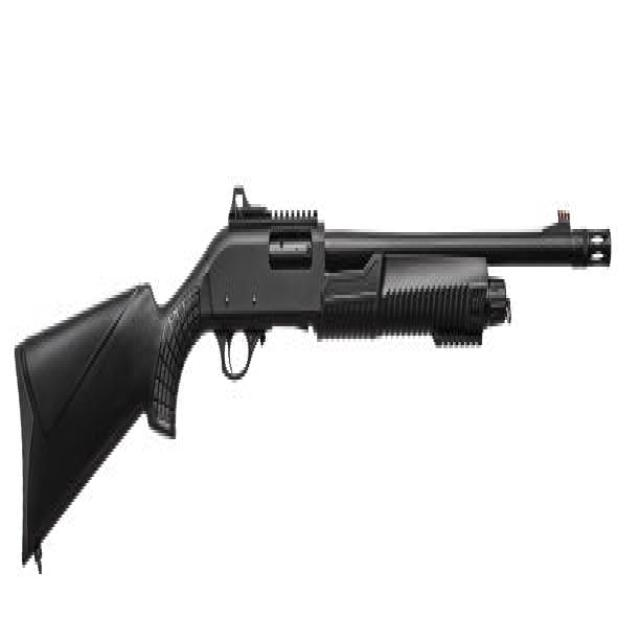rifle: (13, 184, 617, 584)
